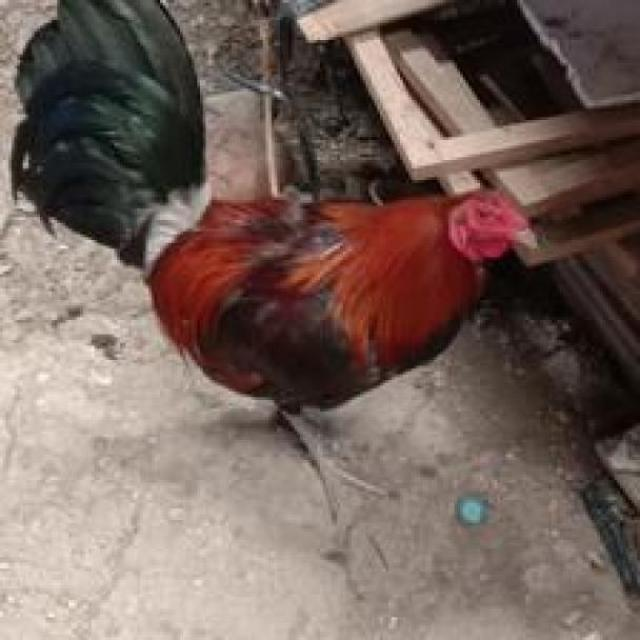Chicken: (2, 0, 561, 523)
